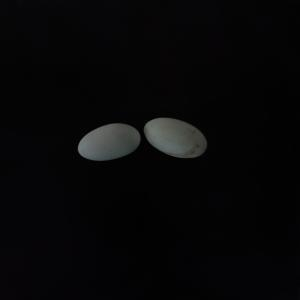Egg: (144, 110, 212, 165), (70, 124, 147, 163)
